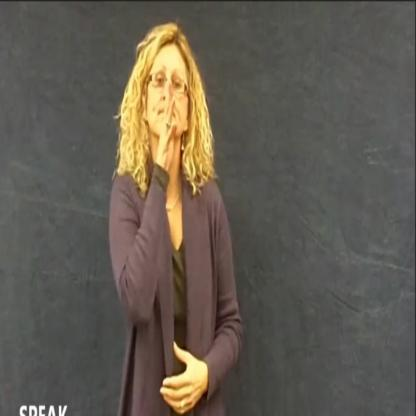Talk: (107, 27, 244, 416)
